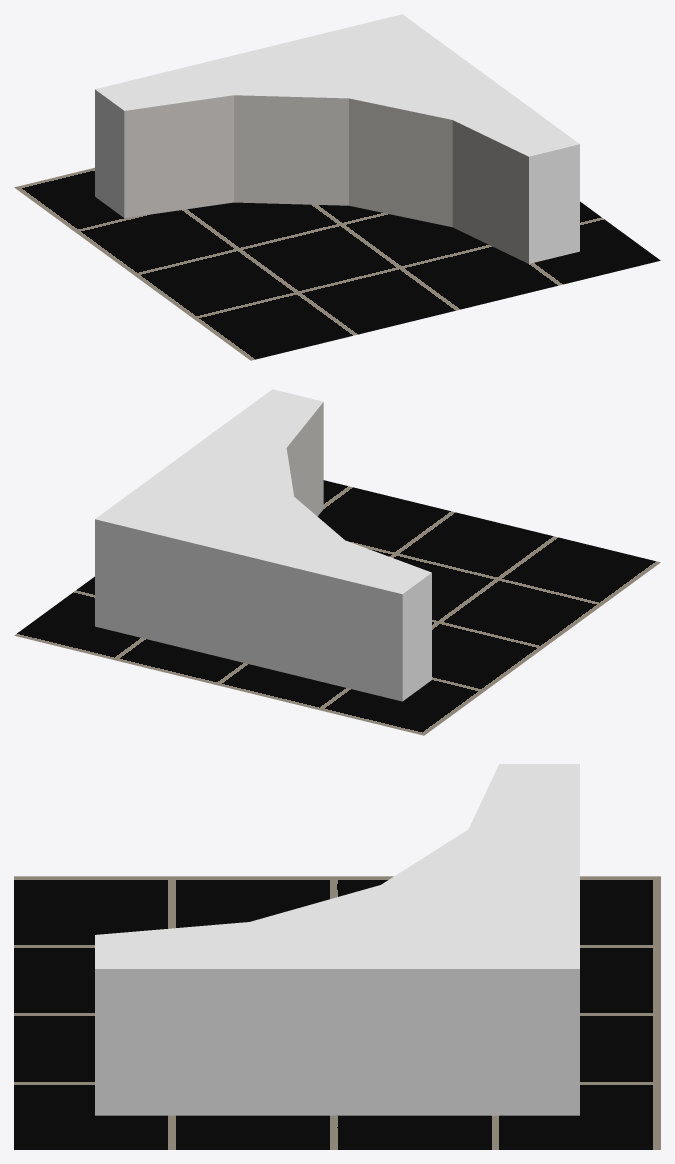
File: Basic_Curve_Inner_3x3_Mid.glb
The picture shows the model from 3 angles, top to bottom: view 1: azimuth 30°, elevation 25°; view 2: azimuth 150°, elevation 25°; view 3: azimuth 270°, elevation 25°; orthographic projection. The views are drawn at different scales.
Visible parts, largest first — view 1: Basic_Curve_Inner_3x3_Mid, Floor; view 2: Basic_Curve_Inner_3x3_Mid, Floor; view 3: Basic_Curve_Inner_3x3_Mid, Floor.
Part boxes in pixels (x1=…): Basic_Curve_Inner_3x3_Mid: x1=95, y1=14, x2=579, y2=263; Floor: x1=14, y1=167, x2=660, y2=360; Basic_Curve_Inner_3x3_Mid: x1=95, y1=389, x2=431, y2=701; Floor: x1=14, y1=480, x2=660, y2=735; Basic_Curve_Inner_3x3_Mid: x1=95, y1=764, x2=579, y2=1115; Floor: x1=14, y1=876, x2=660, y2=1149.
Bounding box in the file's own units: 400 × 100 × 400.
Materials: 3 (1 with a texture image).
